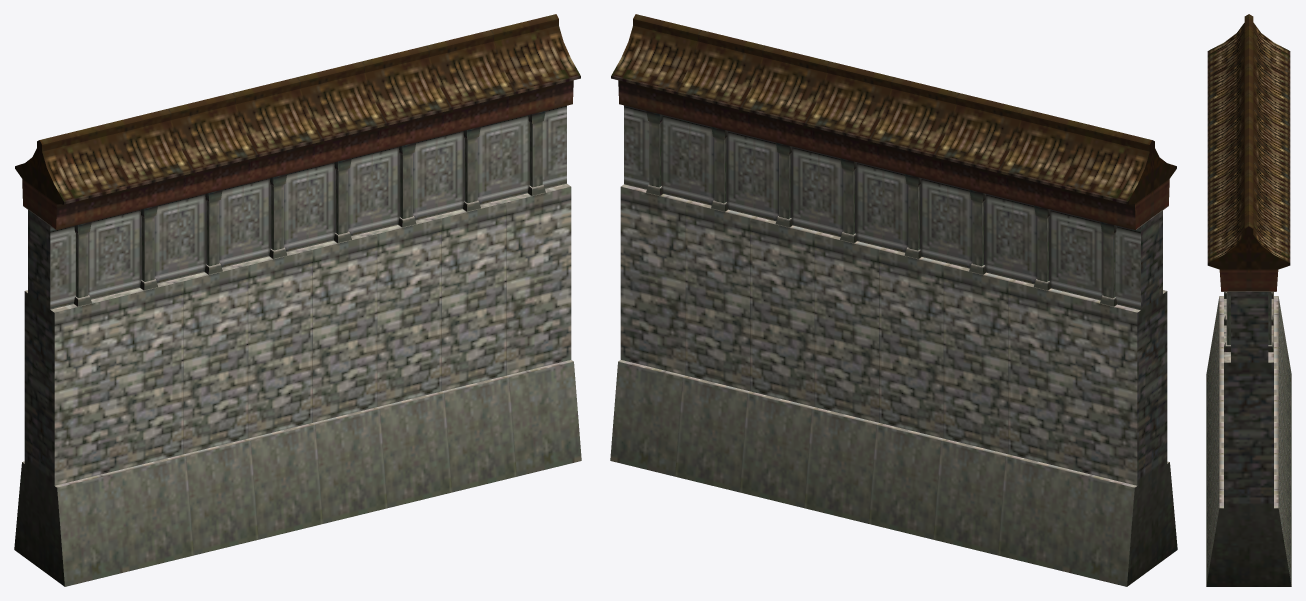
File: b1-middledam-02.glb
The picture shows the model from 3 angles, left to right: view 1: azimuth 30°, elevation 25°; view 2: azimuth 150°, elevation 25°; view 3: azimuth 270°, elevation 25°; orthographic projection. The views are drawn at different scales.
Parts seen in each view (by area): view 1: b1-middledam-02; view 2: b1-middledam-02; view 3: b1-middledam-02.
Boxes of the visible parts, left/top/right/bottom form: b1-middledam-02: left=14, top=14, right=581, bottom=586; b1-middledam-02: left=610, top=14, right=1177, bottom=586; b1-middledam-02: left=1206, top=14, right=1291, bottom=586.
Bounding box in the file's own units: 10 × 7.92 × 1.7.
1 material, 1 textured.
